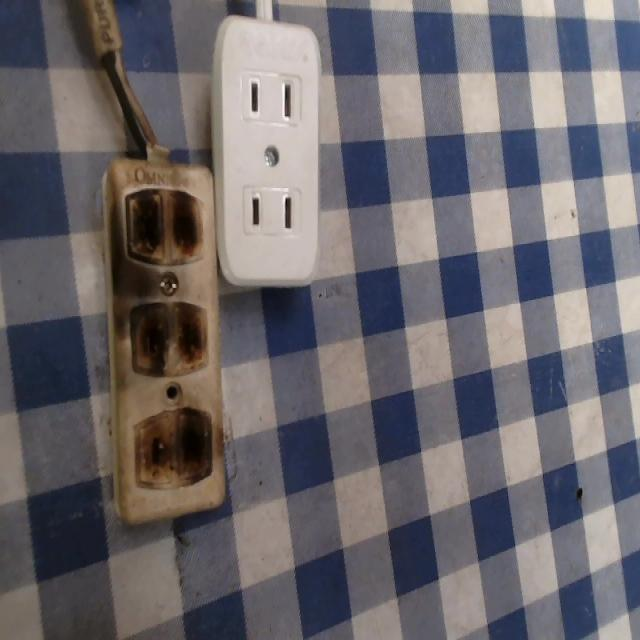-: (125, 400, 215, 500), (122, 293, 213, 380), (121, 190, 207, 270)
